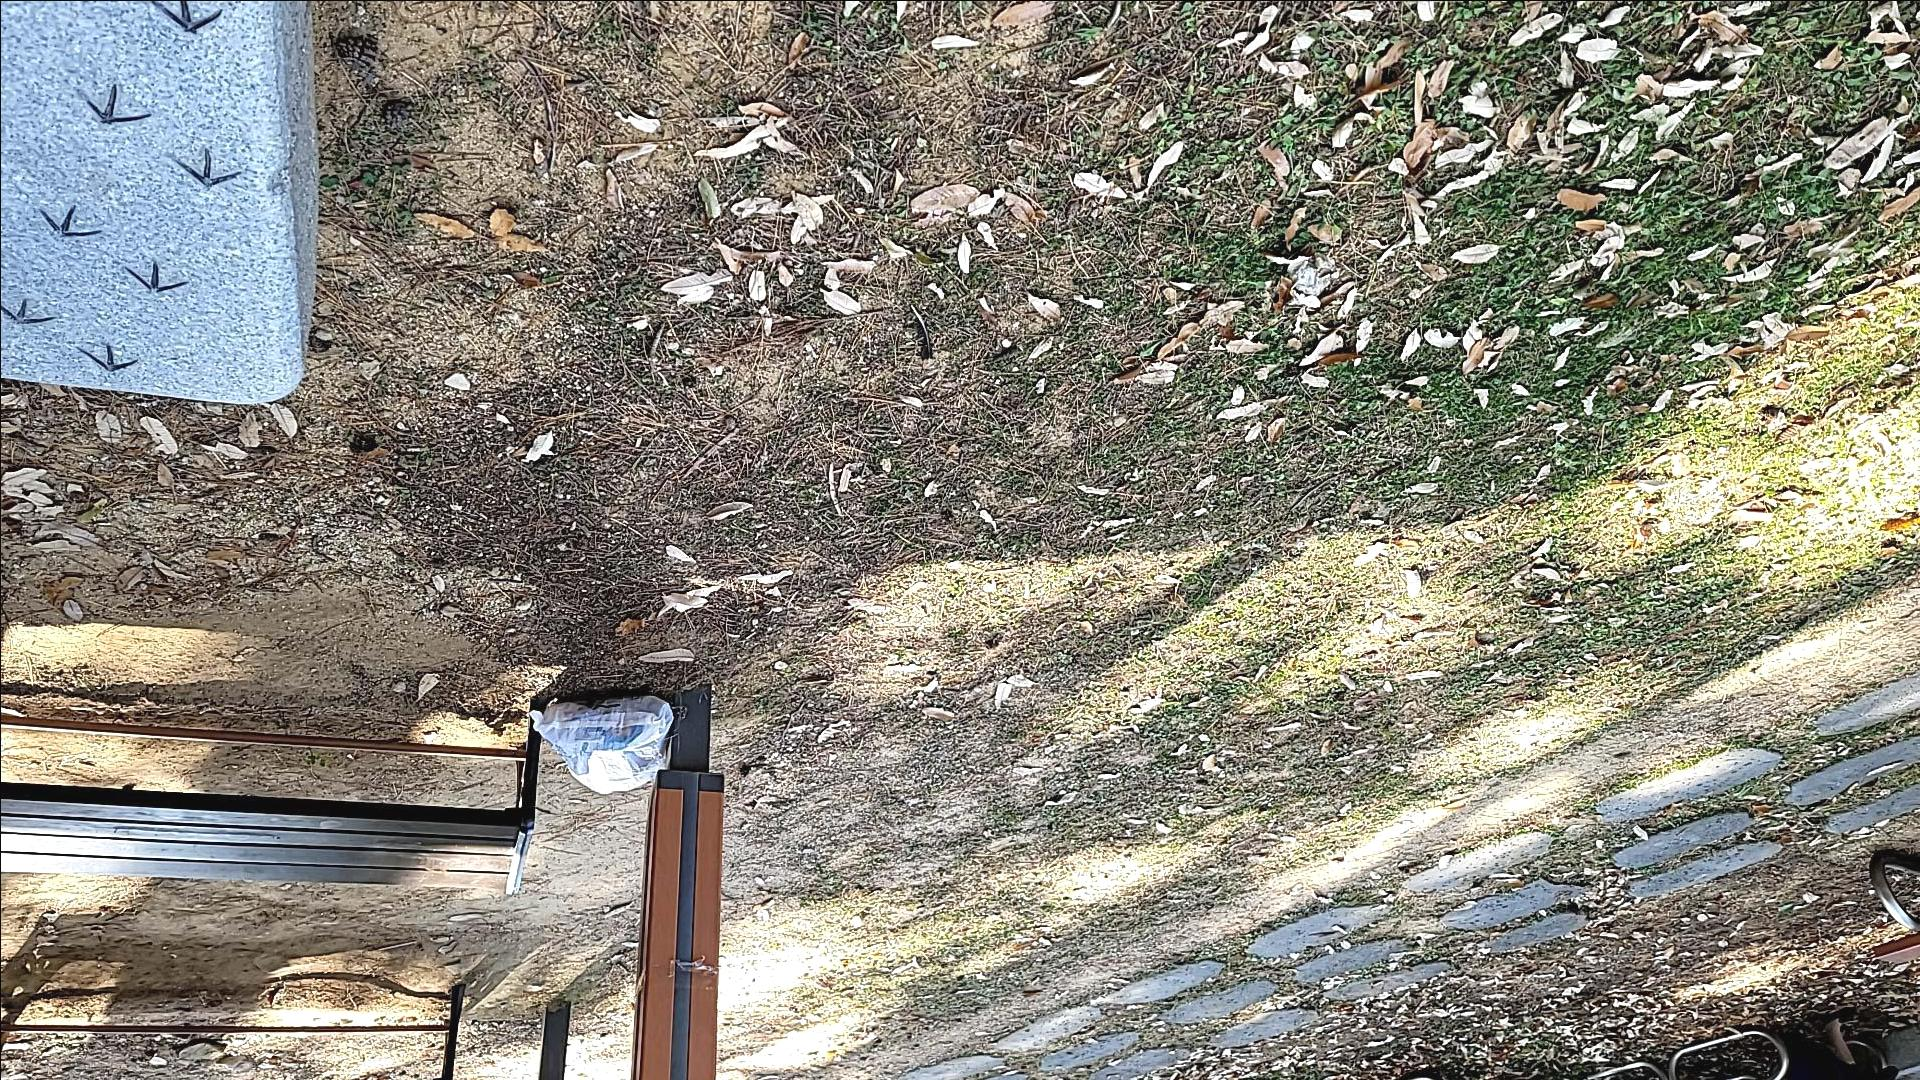white_bag: (524, 676, 690, 804)
